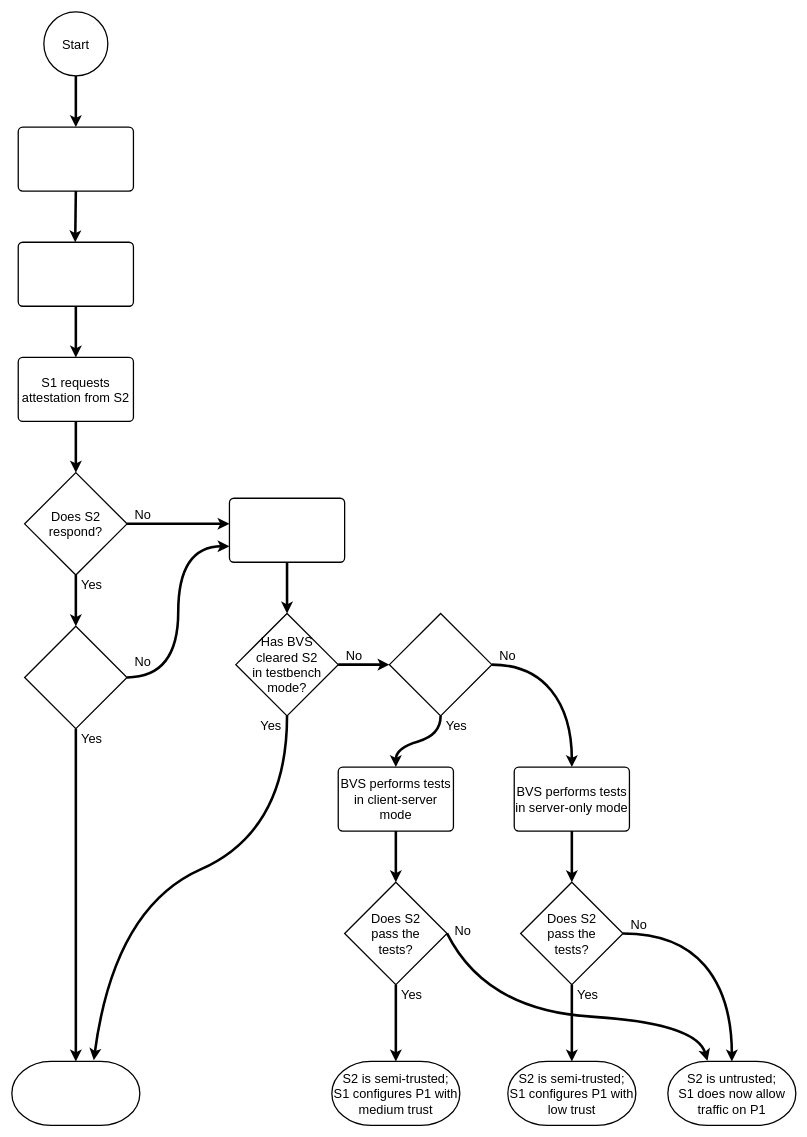
Image size: 807x1137. Some labels were removed from this diagram. The shapes that lost their labels are listed below. From the top down, each one's centre as x and y in pixels, then its label:
the point at 75,158: Manually configure the first trusted switch (S1)
the point at 75,274: A new switch (S2) is detected on a port (P1) of S1
the point at 286,530: S1 notifies behavioral verification server (BVS)
the point at 75,677: Is the attestation valid?
the point at 440,664: Does BVS have clients on two ports of S2?
the point at 75,1093: S2 is trusted; S1 configures P1 with high trust
